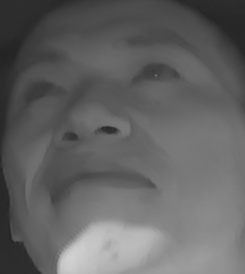eye: (126, 52, 186, 93), (17, 75, 69, 109)
mouth: (43, 153, 155, 214)
